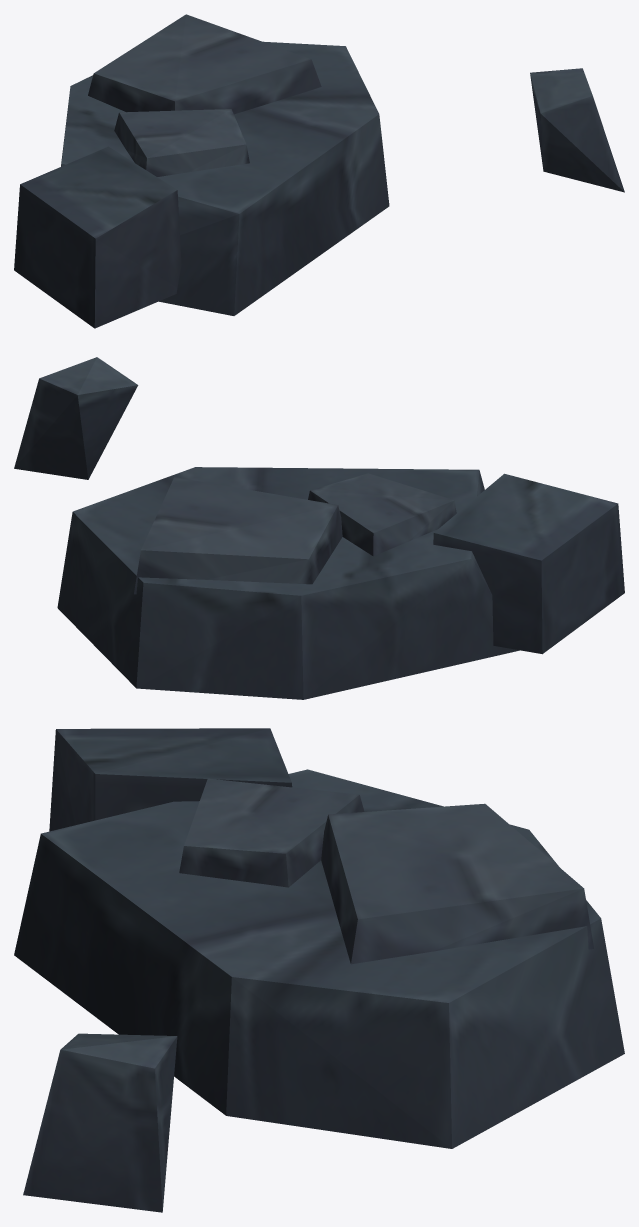
Rendered from Area_11_7.fbx.
3 views of the same model, one above another, from view 1: azimuth 30°, elevation 25°; view 2: azimuth 150°, elevation 25°; view 3: azimuth 270°, elevation 25° (orthographic). The views are drawn at different scales.
Parts seen in each view (by area): view 1: Area_11_7; view 2: Area_11_7; view 3: Area_11_7.
Part boxes in pixels (box(x1,y1,x2,y2)): Area_11_7: box(14, 14, 624, 328); Area_11_7: box(14, 357, 624, 699); Area_11_7: box(14, 728, 624, 1212).
Bounding box in the file's own units: 1814 × 388 × 1221.
